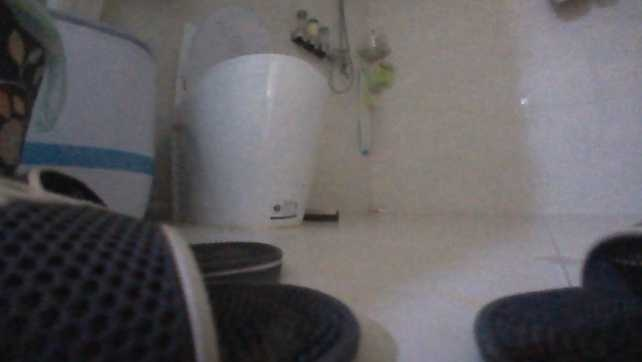toilet: (172, 5, 329, 229)
